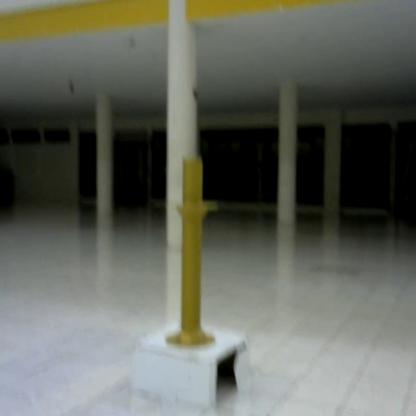pole: (160, 154, 230, 358)
